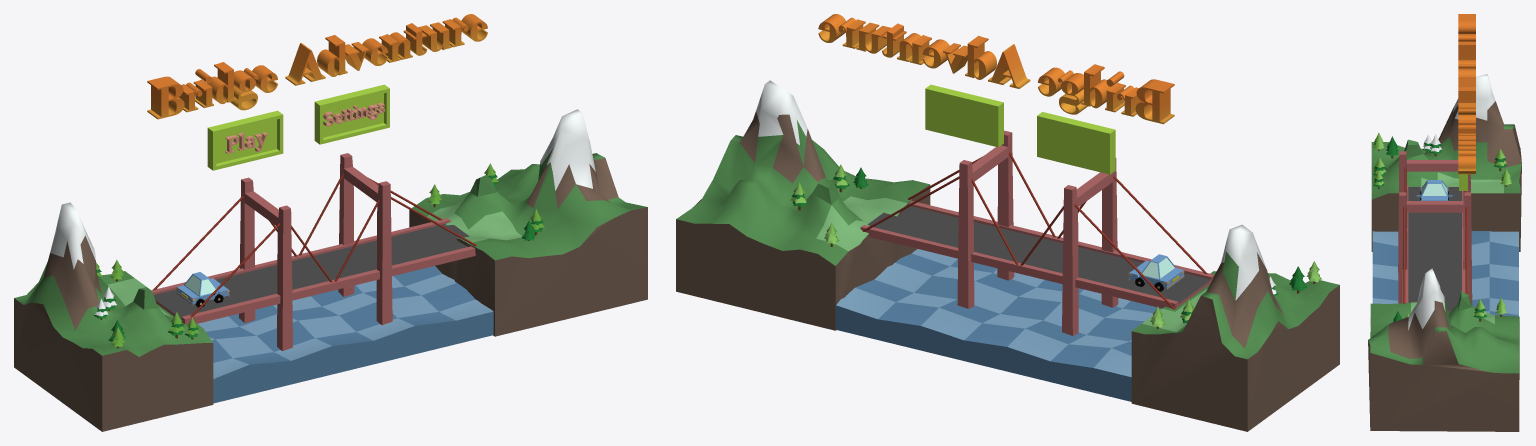
Rendered from MainMenu.fbx.
The picture shows the model from 3 angles, left to right: view 1: azimuth 30°, elevation 25°; view 2: azimuth 150°, elevation 25°; view 3: azimuth 270°, elevation 25°; orthographic projection. The views are drawn at different scales.
Visible parts, largest first — view 1: Box043, Box046, Box045, Text001, Text002, Text003, Cone013, Box047; view 2: Box043, Box045, Box046, Text001, Text002, Text003, Cone013, Box047; view 3: Box043, Box046, Box045, Text001, Cone013, Box047.
Boxes of the visible parts, x1,y1,x2,y2 form: Box043: (14,109,647,431); Box046: (151,153,476,350); Box045: (197,266,493,403); Text001: (147,14,487,119); Text002: (207,110,283,170); Text003: (314,84,389,144); Cone013: (94,163,544,348); Box047: (176,272,229,307); Box043: (676,80,1339,431); Box045: (836,249,1161,401); Box046: (860,130,1214,335); Text001: (818,14,1174,124); Text002: (1037,112,1115,174); Text003: (925,84,1003,147); Cone013: (790,164,1321,328); Box047: (1128,254,1184,291); Box043: (1368,74,1521,431); Box046: (1398,151,1472,312); Box045: (1372,231,1518,316); Text001: (1458,14,1475,174); Cone013: (1373,133,1511,322); Box047: (1416,180,1452,200).
Bounding box in the file's own units: 807 × 393 × 231.
Materials: 22 (22 with a texture image).
